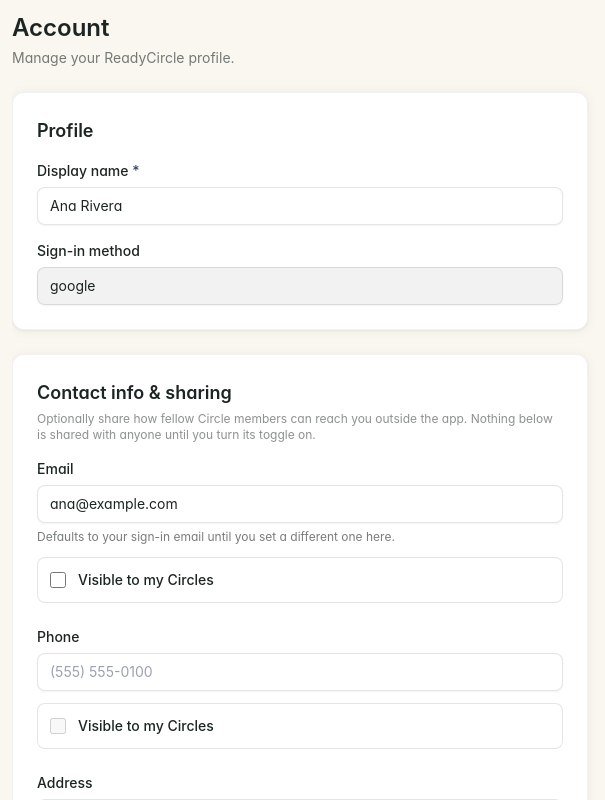
AccountPage › keeps the phone visibility toggle disabled until a phone number is entered
Expected: the checkbox labelled "Visible to my Circles" below "Phone" is disabled, [50,718,66,734]
Type "555-0100" into the field labelled "Phone" at (300, 672), box [37,653,563,691]
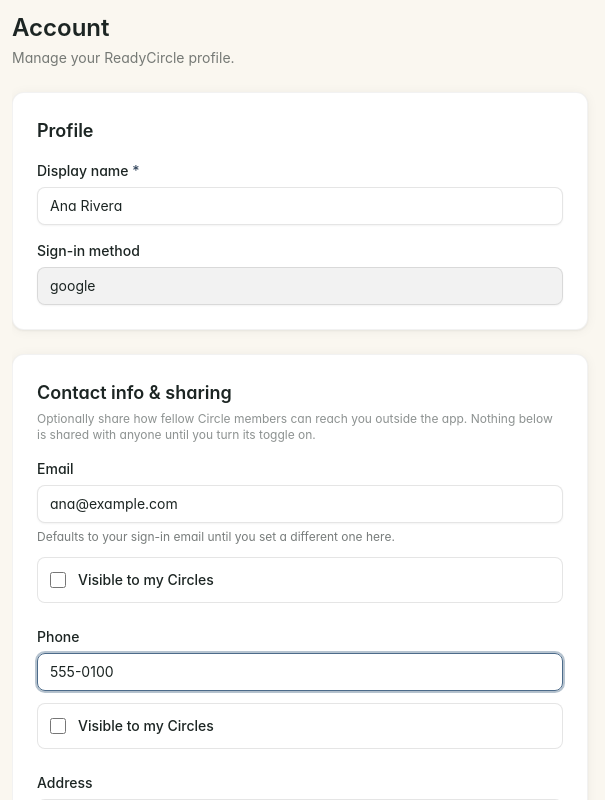
Expected: the checkbox labelled "Visible to my Circles" below "Phone" is enabled, [50,718,66,734]
